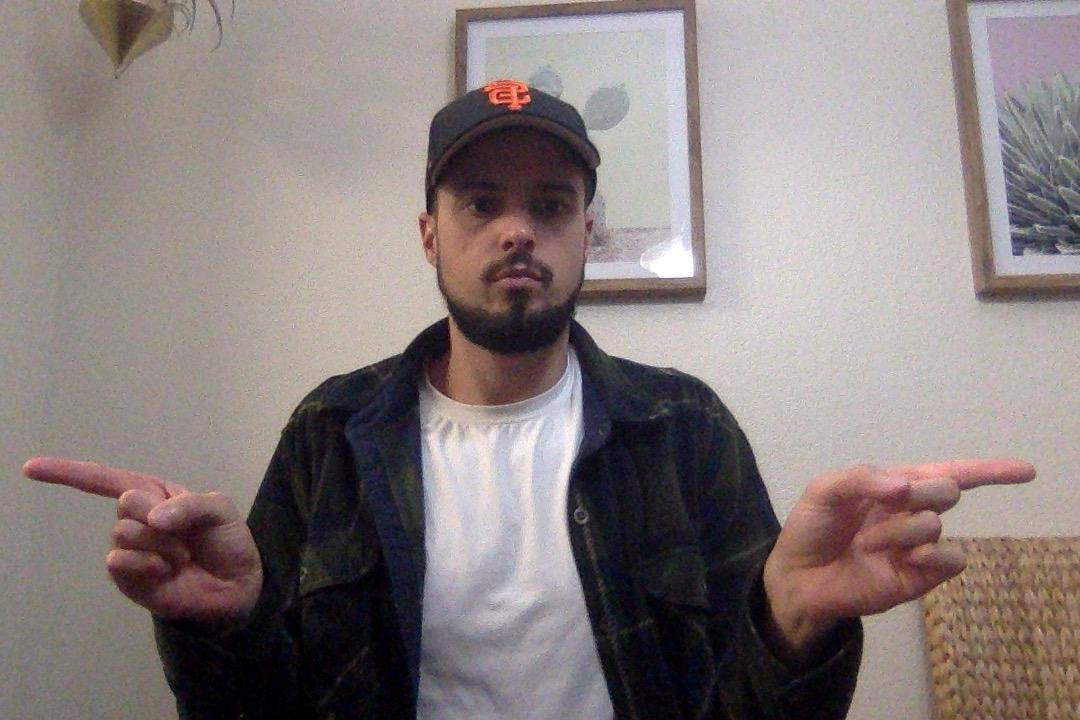Point-Left: (765, 435, 1041, 642)
Point-Right: (12, 447, 268, 627)
